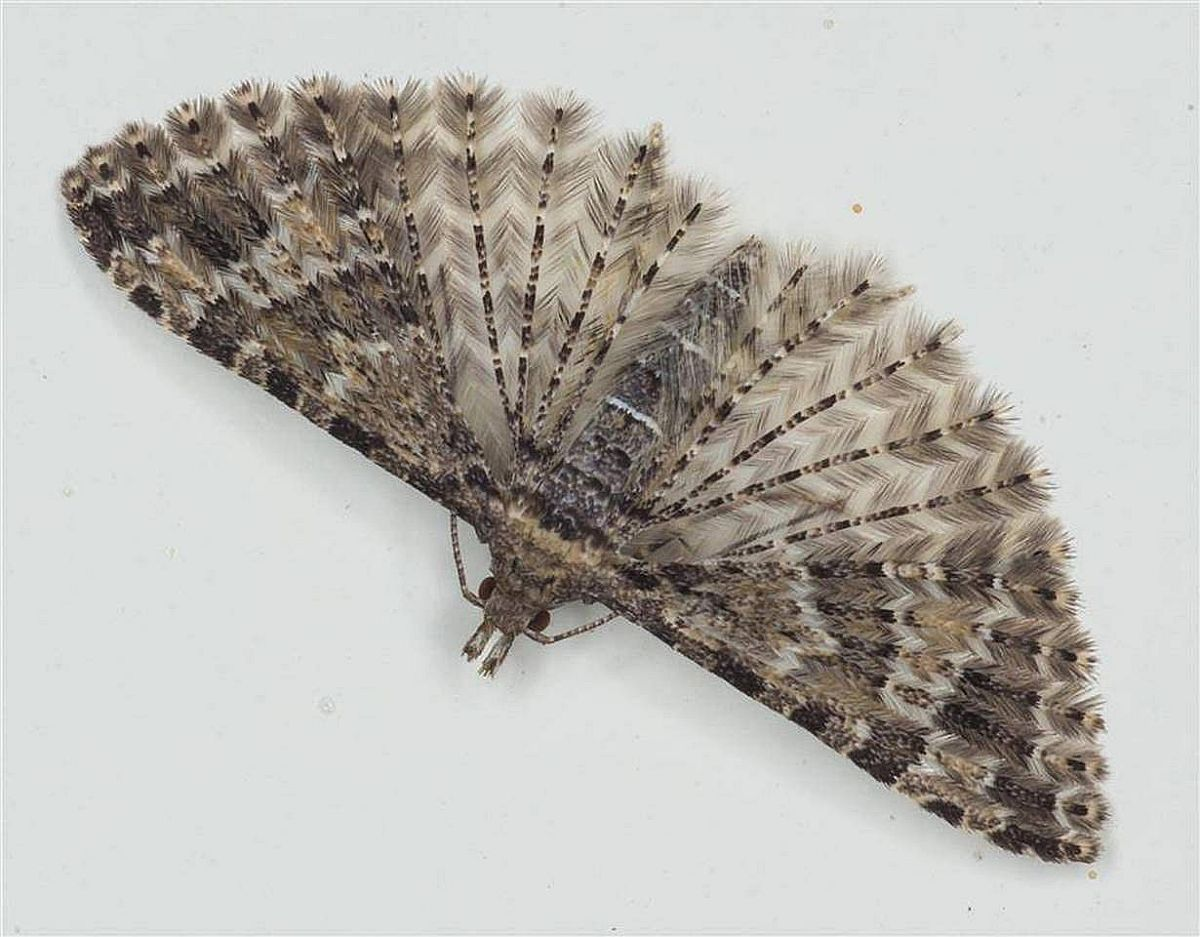Alucitidae: (58, 65, 1115, 871)
moth: (56, 63, 1113, 869)
